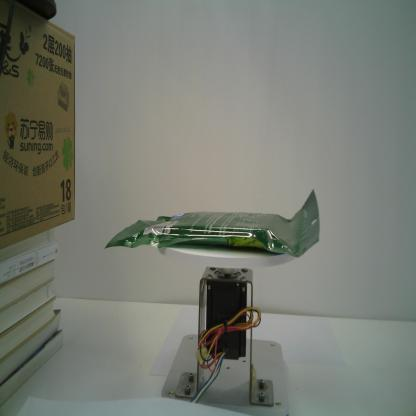Dried Food: (104, 188, 320, 258)
